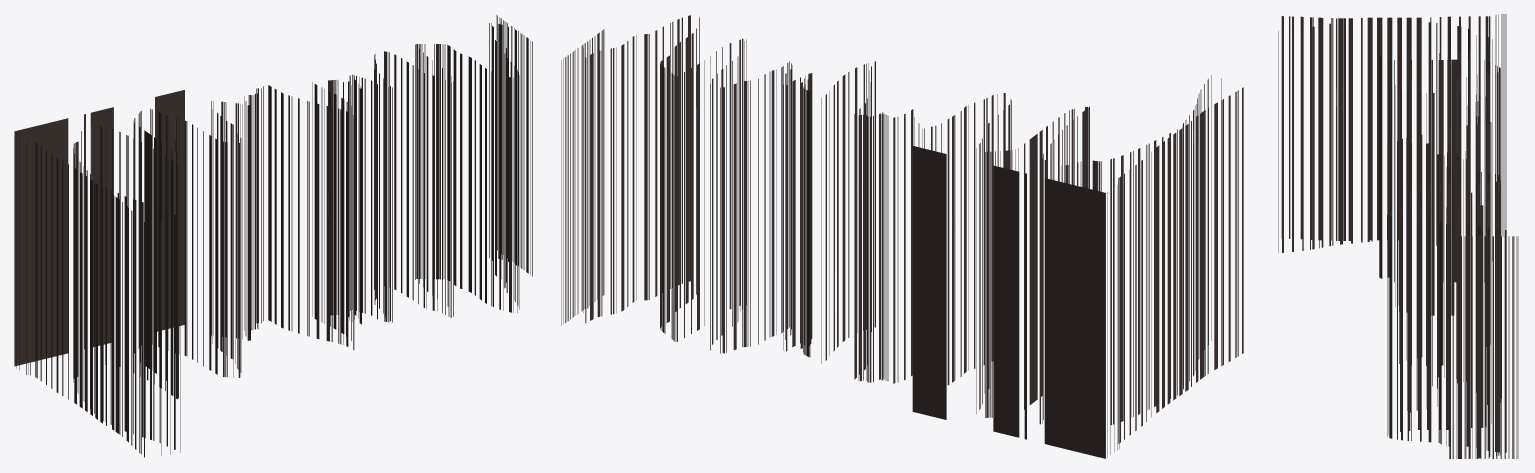
The picture shows the model from 3 angles, left to right: view 1: azimuth 30°, elevation 25°; view 2: azimuth 150°, elevation 25°; view 3: azimuth 270°, elevation 25°; orthographic projection. The views are drawn at different scales.
Visible parts, largest first — view 1: Shape1; view 2: Shape1; view 3: Shape1.
Boxes of the visible parts, x1,y1,x2,y2 form: Shape1: [14, 15, 532, 457]; Shape1: [561, 15, 1243, 458]; Shape1: [1278, 14, 1518, 458].
Size of the model in its own units: 53.55 by 25 by 25.08.
